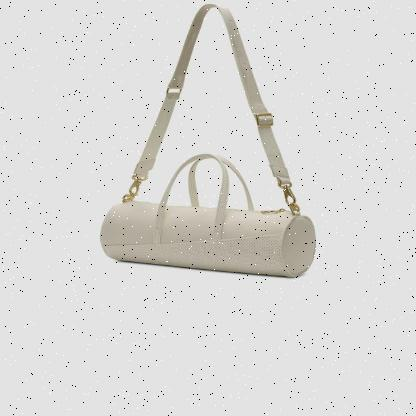person: (93, 0, 322, 280)
